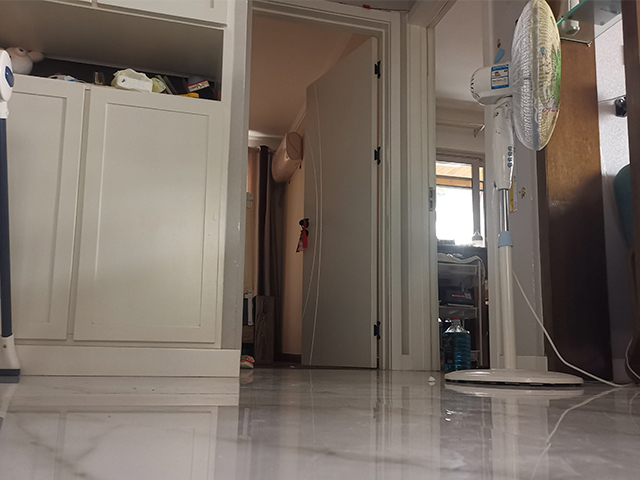cabinet: (1, 88, 239, 379)
wire: (513, 269, 634, 388)
